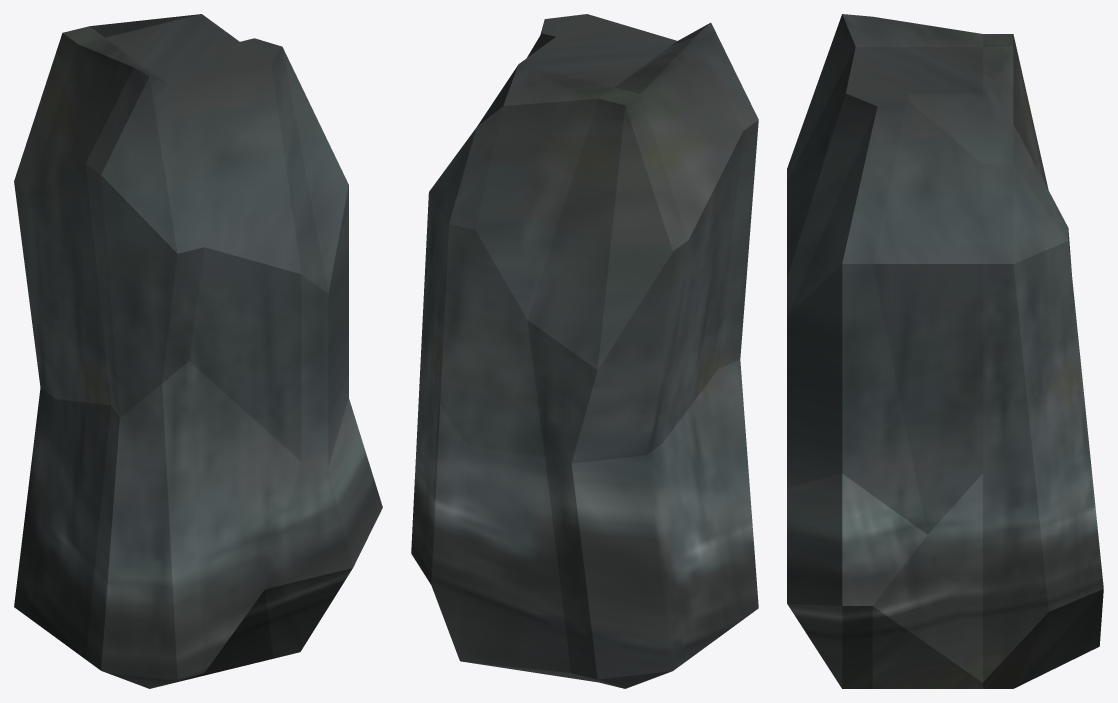
File: PedrasPlataformaTerra2.fbx
3 views of the same model, side by side, from view 1: azimuth 30°, elevation 25°; view 2: azimuth 150°, elevation 25°; view 3: azimuth 270°, elevation 25° (orthographic).
Parts seen in each view (by area): view 1: Cube; view 2: Cube; view 3: Cube.
Boxes of the visible parts, bbox=[...] form: Cube: bbox=[14, 14, 382, 688]; Cube: bbox=[411, 14, 758, 688]; Cube: bbox=[787, 14, 1103, 688].
Bounding box in the file's own units: 228 × 473 × 225.
1 material, 1 textured.
